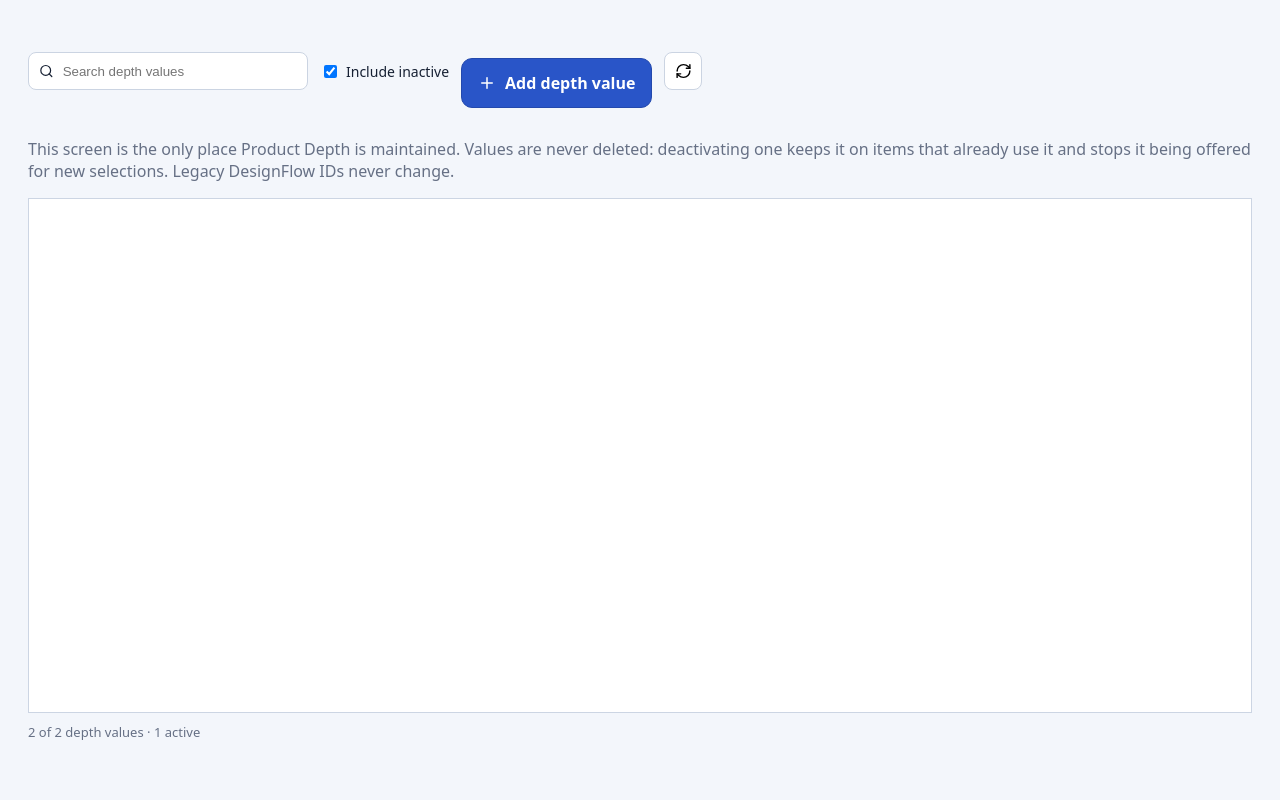
ProductDepthTable › refuses a mutation with no reason, before any RPC is sent
Expected: the text "2 of 2 depth values · 1 active" is shown, [28,723,200,741]
Click the button "Add depth value": (557, 83) [461,58,652,108]
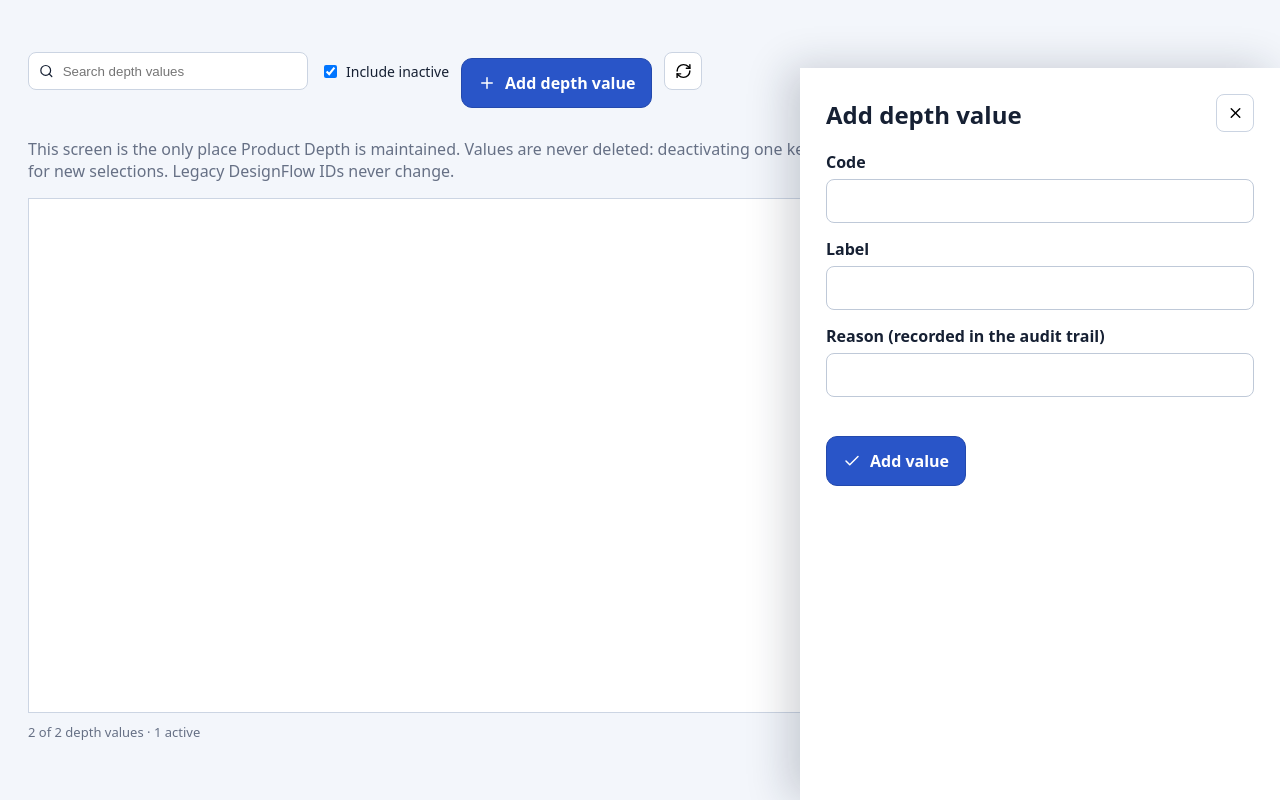
In the field labelled "Code": (1040, 201) [826,179,1254,223], type "X1"
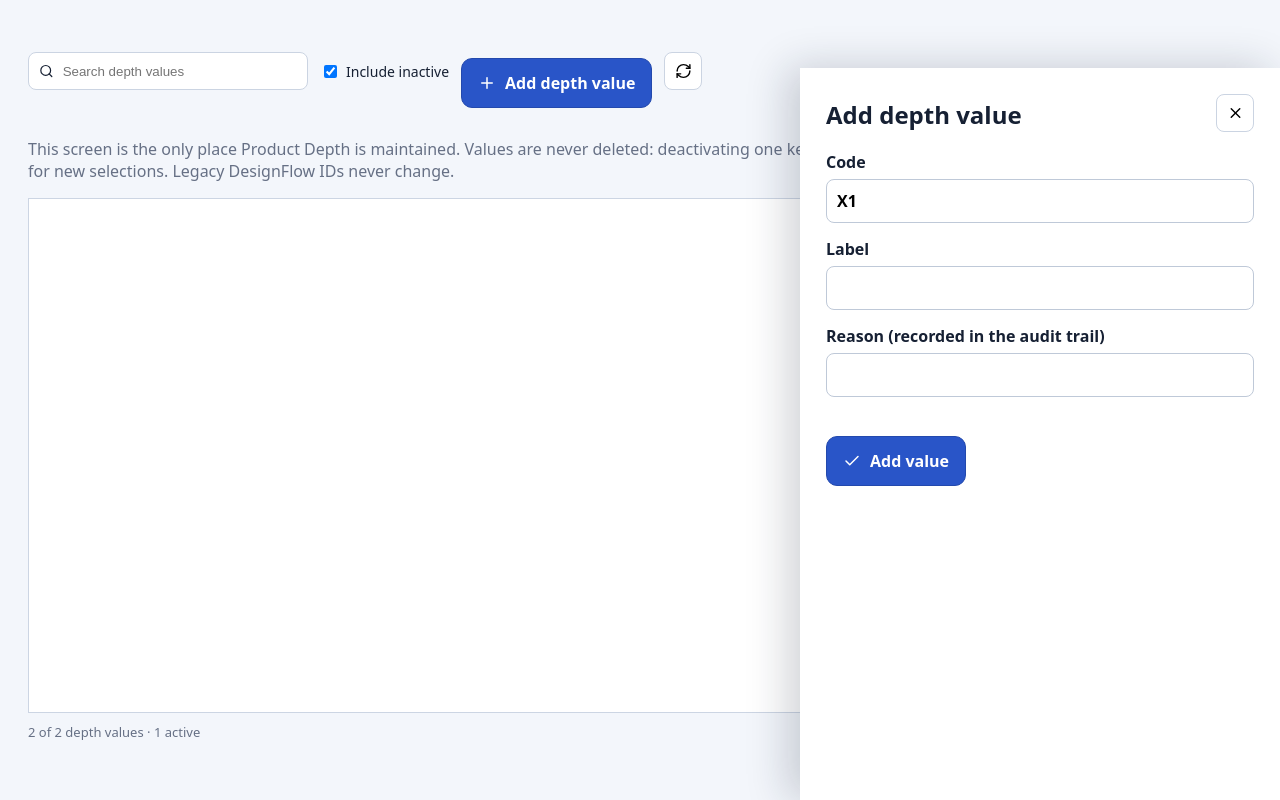
In the field labelled "Label": (1040, 288) [826,266,1254,310], type "12 inch"
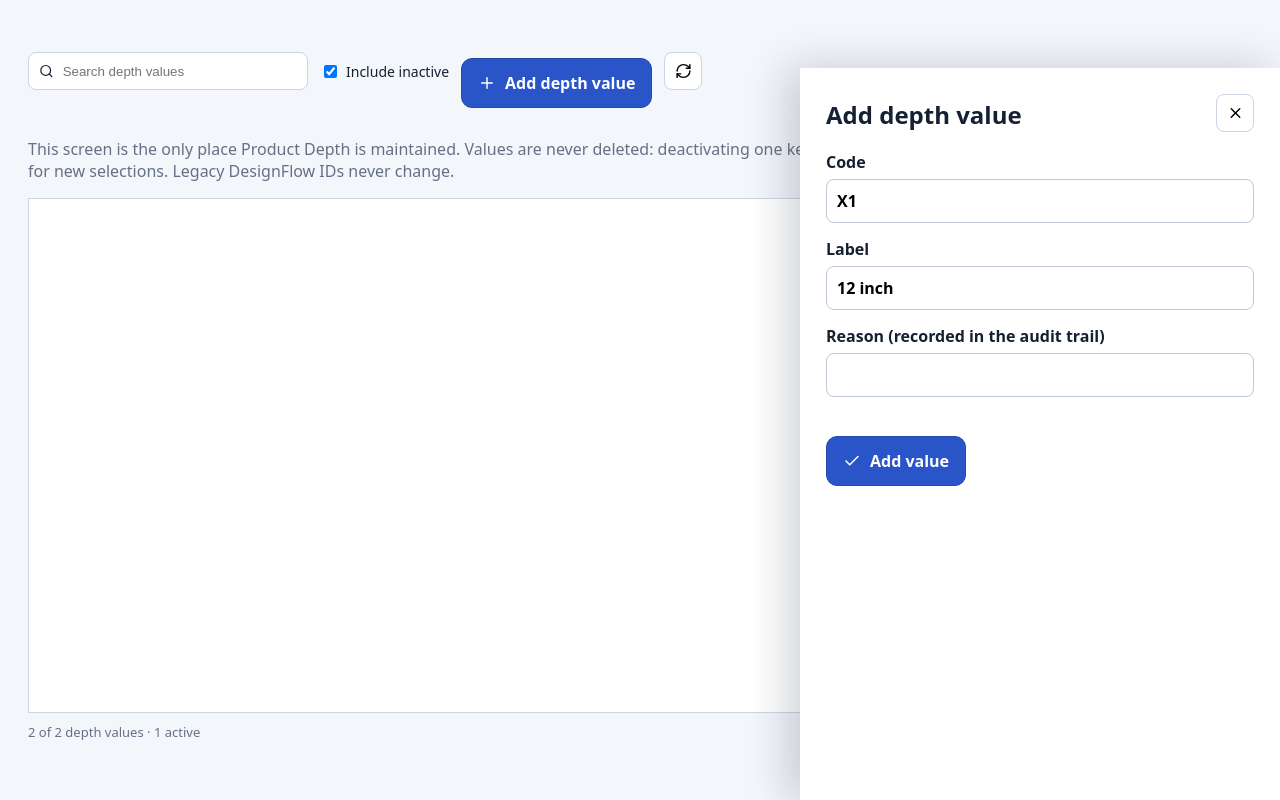
Click the button "Add value": (896, 461) [826,436,966,486]
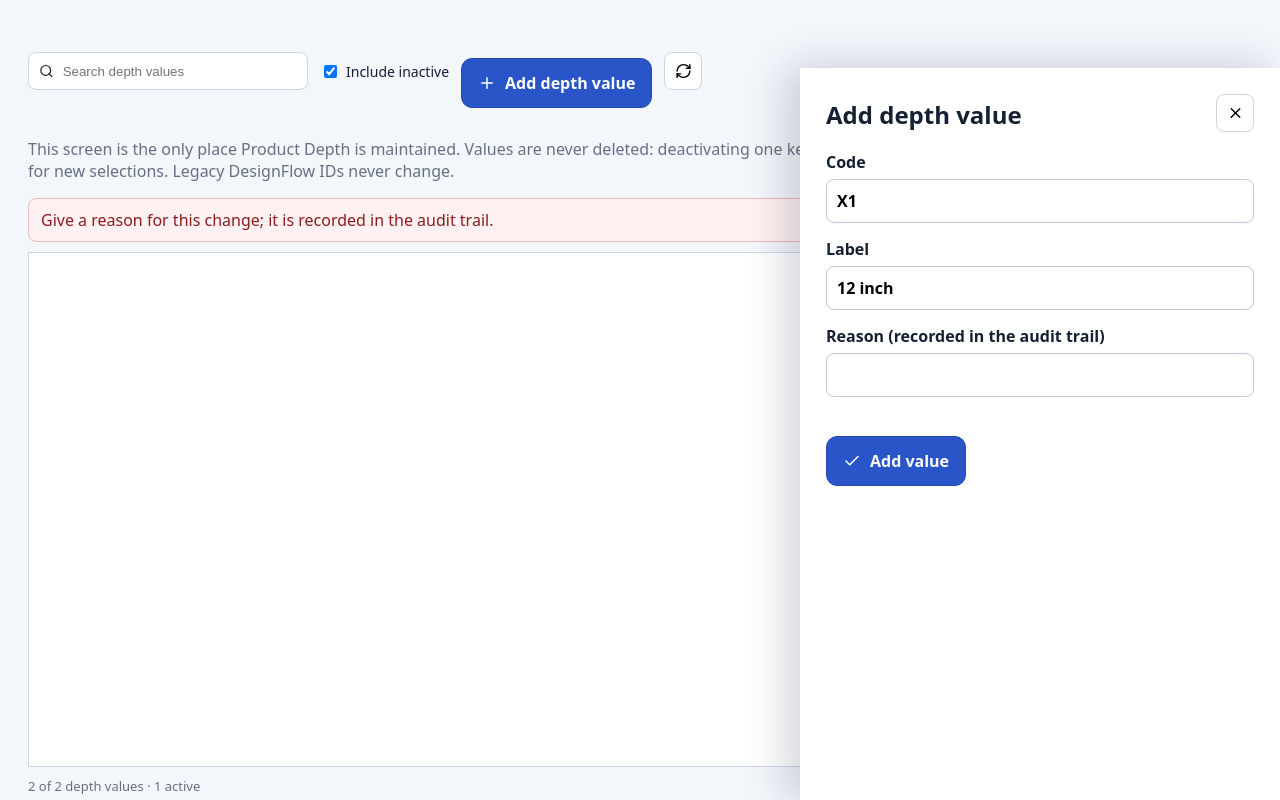
Expected: the text "Give a reason for this change; it is recorded in the audit trail." is shown, [28,198,1252,242]
